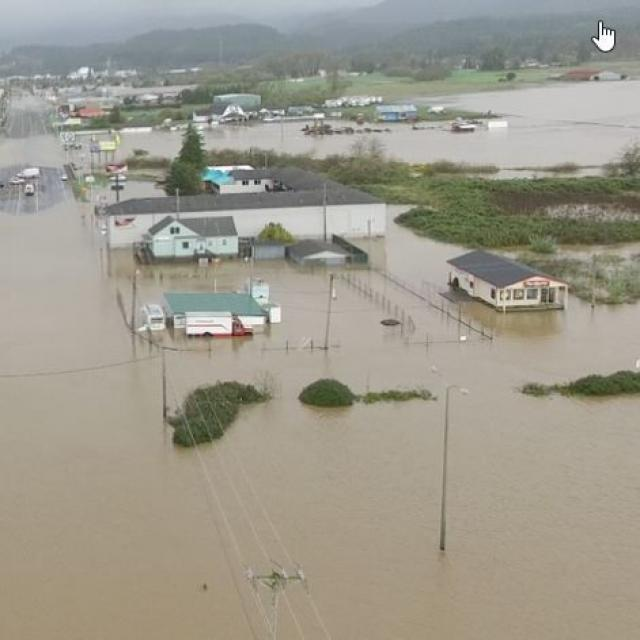flood: (0, 194, 640, 640), (379, 80, 640, 170), (206, 122, 360, 154), (550, 244, 640, 270), (0, 135, 64, 167), (118, 130, 180, 158), (120, 181, 162, 199), (93, 179, 114, 202)
house: (447, 252, 567, 316), (160, 286, 276, 342), (145, 212, 245, 265), (215, 167, 272, 196)
